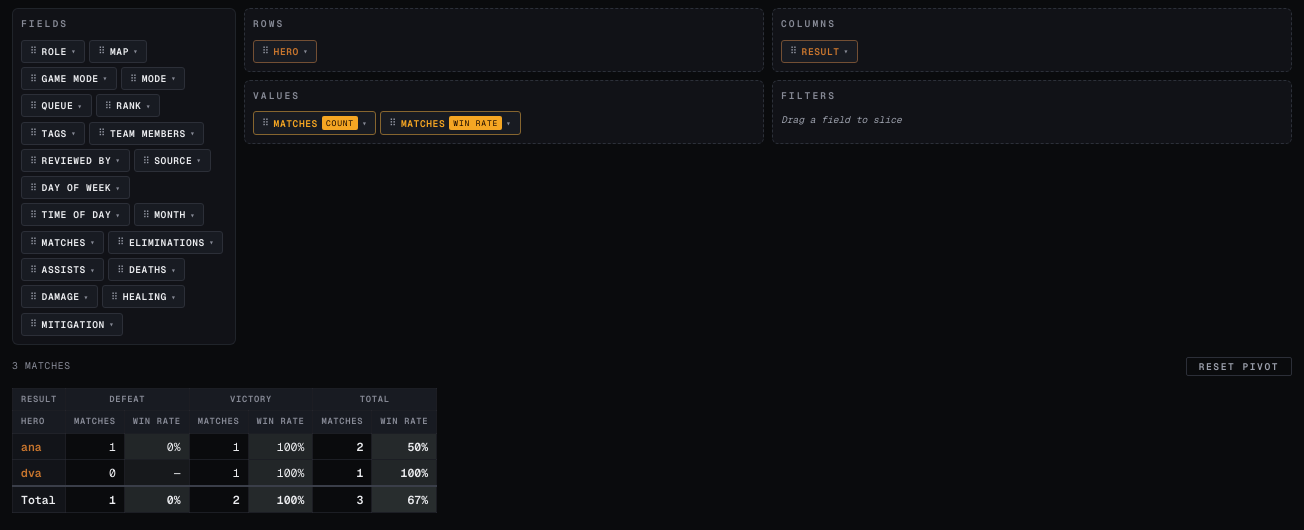
Test: PivotTable — value shelf › adds a measure from the tray with its default aggregation and a matching column
The width and height of the screenshot is (1304, 530).
Click the button "⠿ Damage ▾" at (60, 297), box [21,285,98,308]
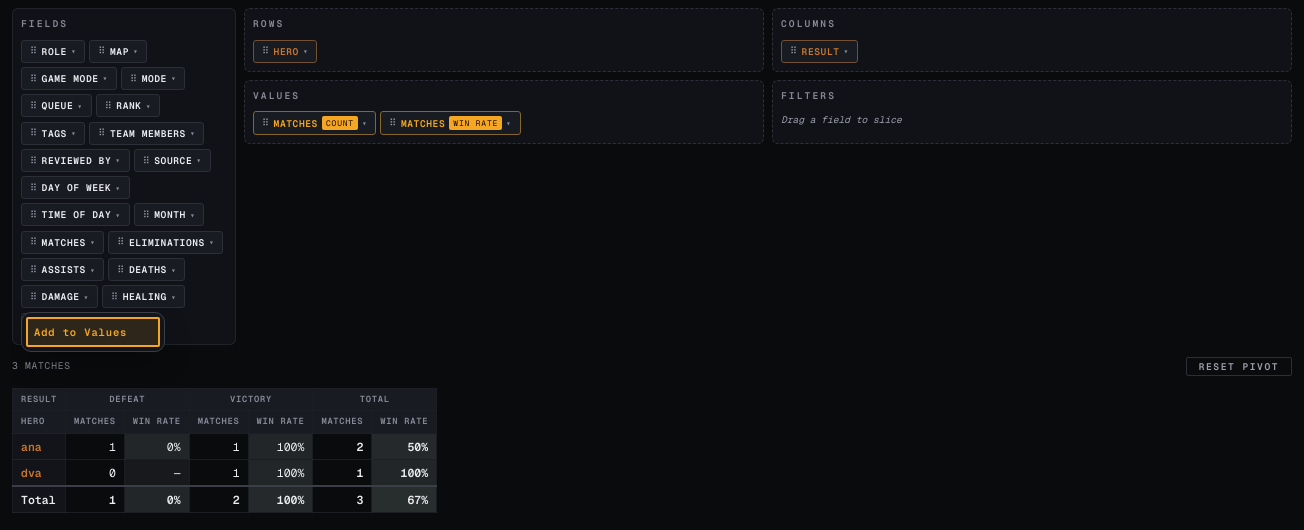
Click the menu item "Add to Values" at (93, 332), box [26,317,160,347]
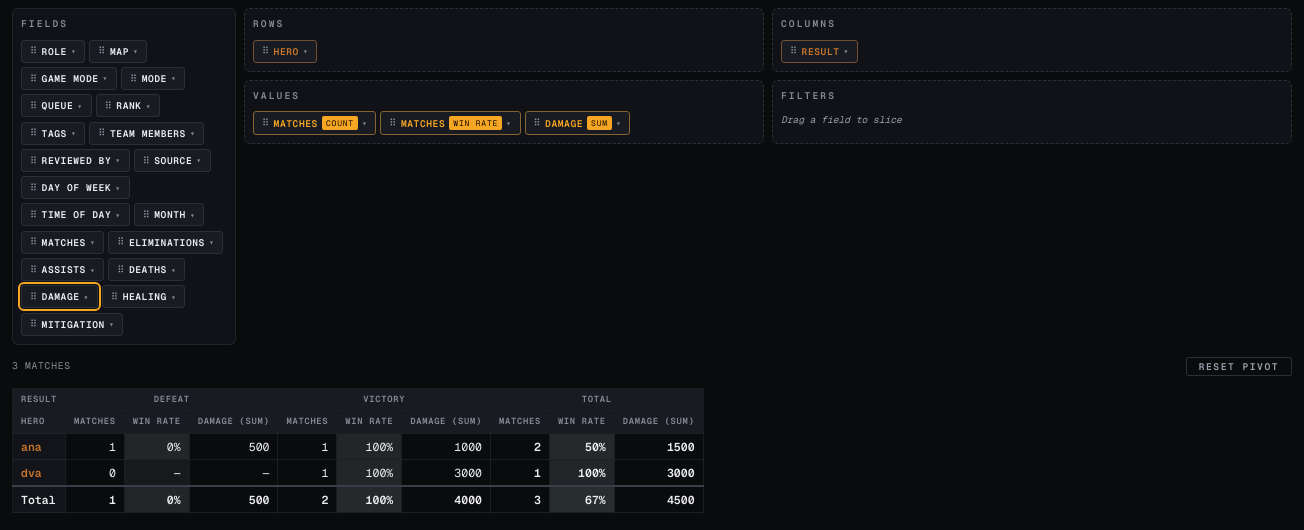
Expected: the button "⠿ Damage Sum ▾" is shown, [524,111,630,135]
